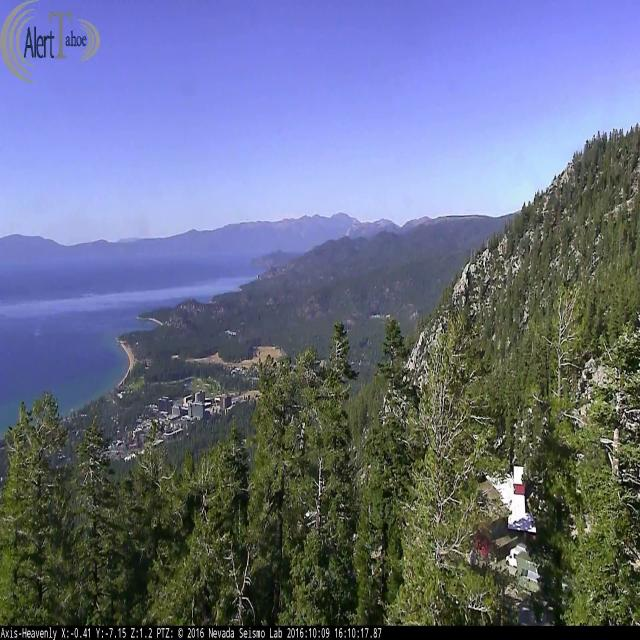smoke: (236, 328, 245, 345)
